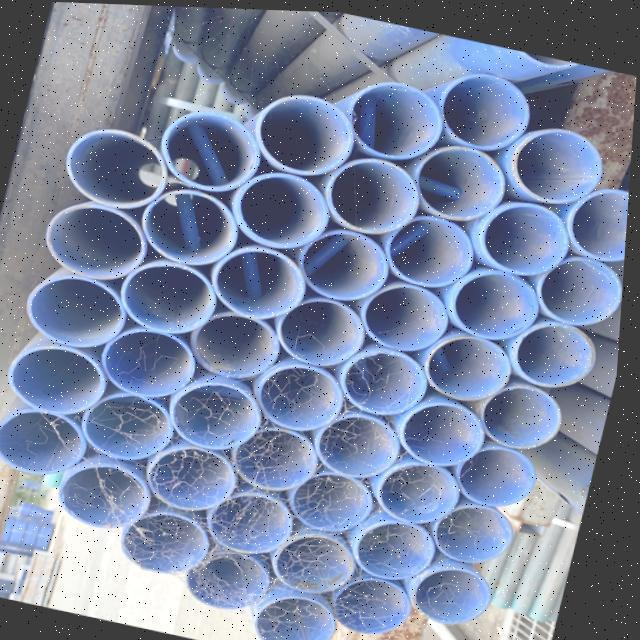pipe: (67, 123, 168, 208), (46, 201, 148, 283), (256, 89, 354, 174), (158, 108, 260, 188), (31, 269, 129, 352), (12, 337, 114, 415), (349, 74, 446, 155), (395, 205, 481, 294), (0, 404, 93, 484), (328, 152, 421, 232), (107, 322, 203, 398), (236, 165, 328, 244), (126, 257, 224, 331), (146, 183, 240, 259), (439, 68, 530, 146), (419, 137, 509, 214), (239, 413, 332, 486), (306, 222, 393, 300), (481, 197, 571, 272), (177, 376, 269, 449), (213, 241, 305, 313), (521, 121, 608, 197), (65, 462, 160, 531), (267, 359, 351, 435), (192, 304, 282, 374), (346, 345, 433, 416), (152, 442, 244, 509), (286, 295, 374, 365), (90, 389, 178, 458), (368, 278, 457, 346), (456, 265, 542, 335), (546, 249, 626, 321), (128, 509, 219, 572), (431, 330, 517, 395), (403, 395, 490, 459), (324, 407, 407, 474), (278, 527, 362, 593), (214, 489, 301, 551), (520, 316, 601, 382), (380, 459, 466, 521), (198, 546, 282, 608), (487, 380, 568, 444), (358, 514, 442, 575), (298, 467, 380, 529), (460, 446, 543, 505), (339, 571, 422, 629), (439, 500, 522, 558), (569, 181, 631, 254), (421, 565, 501, 620), (263, 589, 348, 640)
